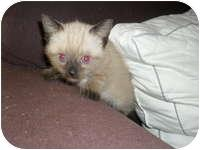siamese: (40, 10, 116, 90)
